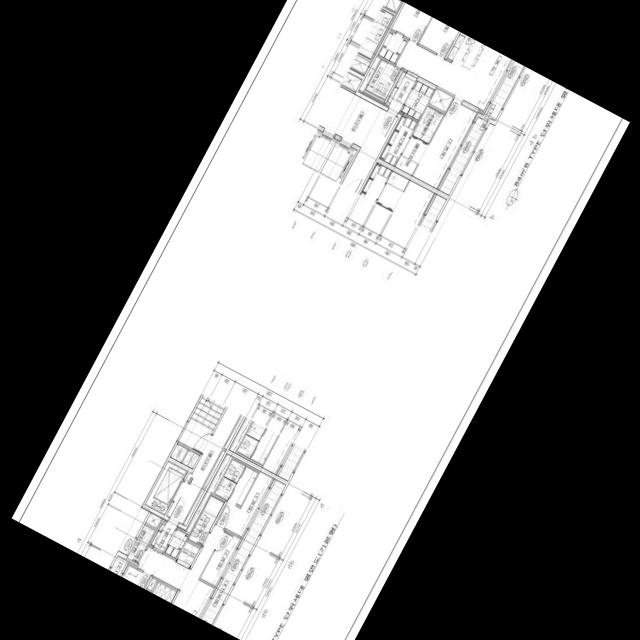background: (11, 0, 629, 640)
space_balconi: (201, 479, 285, 624), (439, 61, 523, 195), (109, 555, 127, 576)
space_bedroom: (412, 99, 478, 189), (216, 471, 274, 537), (200, 530, 241, 586), (418, 17, 458, 57), (391, 3, 431, 42), (122, 561, 150, 588)
space_dressroom: (379, 114, 417, 166), (378, 30, 407, 63)
space_elevator: (145, 461, 187, 514), (318, 139, 356, 183), (299, 129, 336, 172)
space_elevator_hall: (166, 407, 240, 523), (319, 86, 398, 193)
space_front: (385, 70, 416, 112), (148, 518, 177, 551)
space_kitchen: (447, 32, 485, 71)
space_living_room: (396, 40, 510, 114), (137, 525, 224, 617)
space_other: (185, 453, 232, 532), (183, 450, 225, 525), (401, 80, 434, 119), (358, 56, 380, 92), (164, 527, 188, 558), (224, 414, 244, 449), (428, 88, 453, 111), (177, 540, 200, 565), (341, 71, 362, 91), (170, 443, 188, 462), (182, 449, 199, 468), (145, 512, 161, 527), (146, 577, 156, 590)
space_outdoor_room: (126, 524, 155, 563)
space_staircase: (178, 394, 225, 453)
space_toilet: (395, 105, 444, 175), (214, 458, 258, 505), (188, 495, 224, 545), (365, 58, 401, 100)
